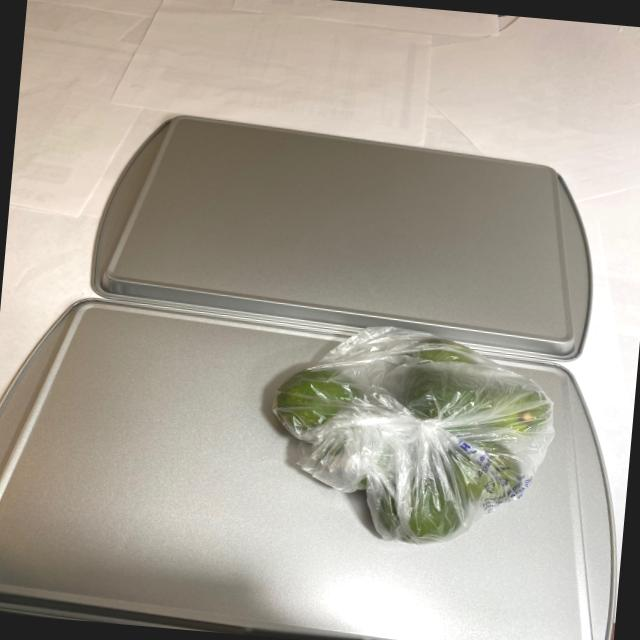lemon: (264, 329, 551, 552)
